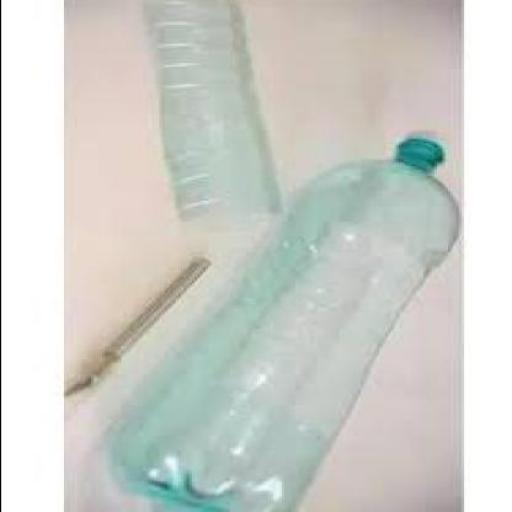plastic: (109, 140, 463, 511), (144, 1, 283, 235), (403, 131, 455, 161)
